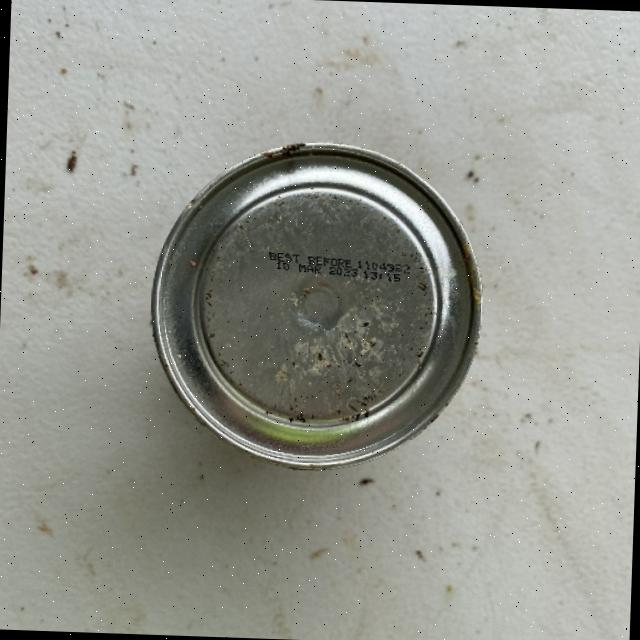metal: (144, 133, 487, 476)
